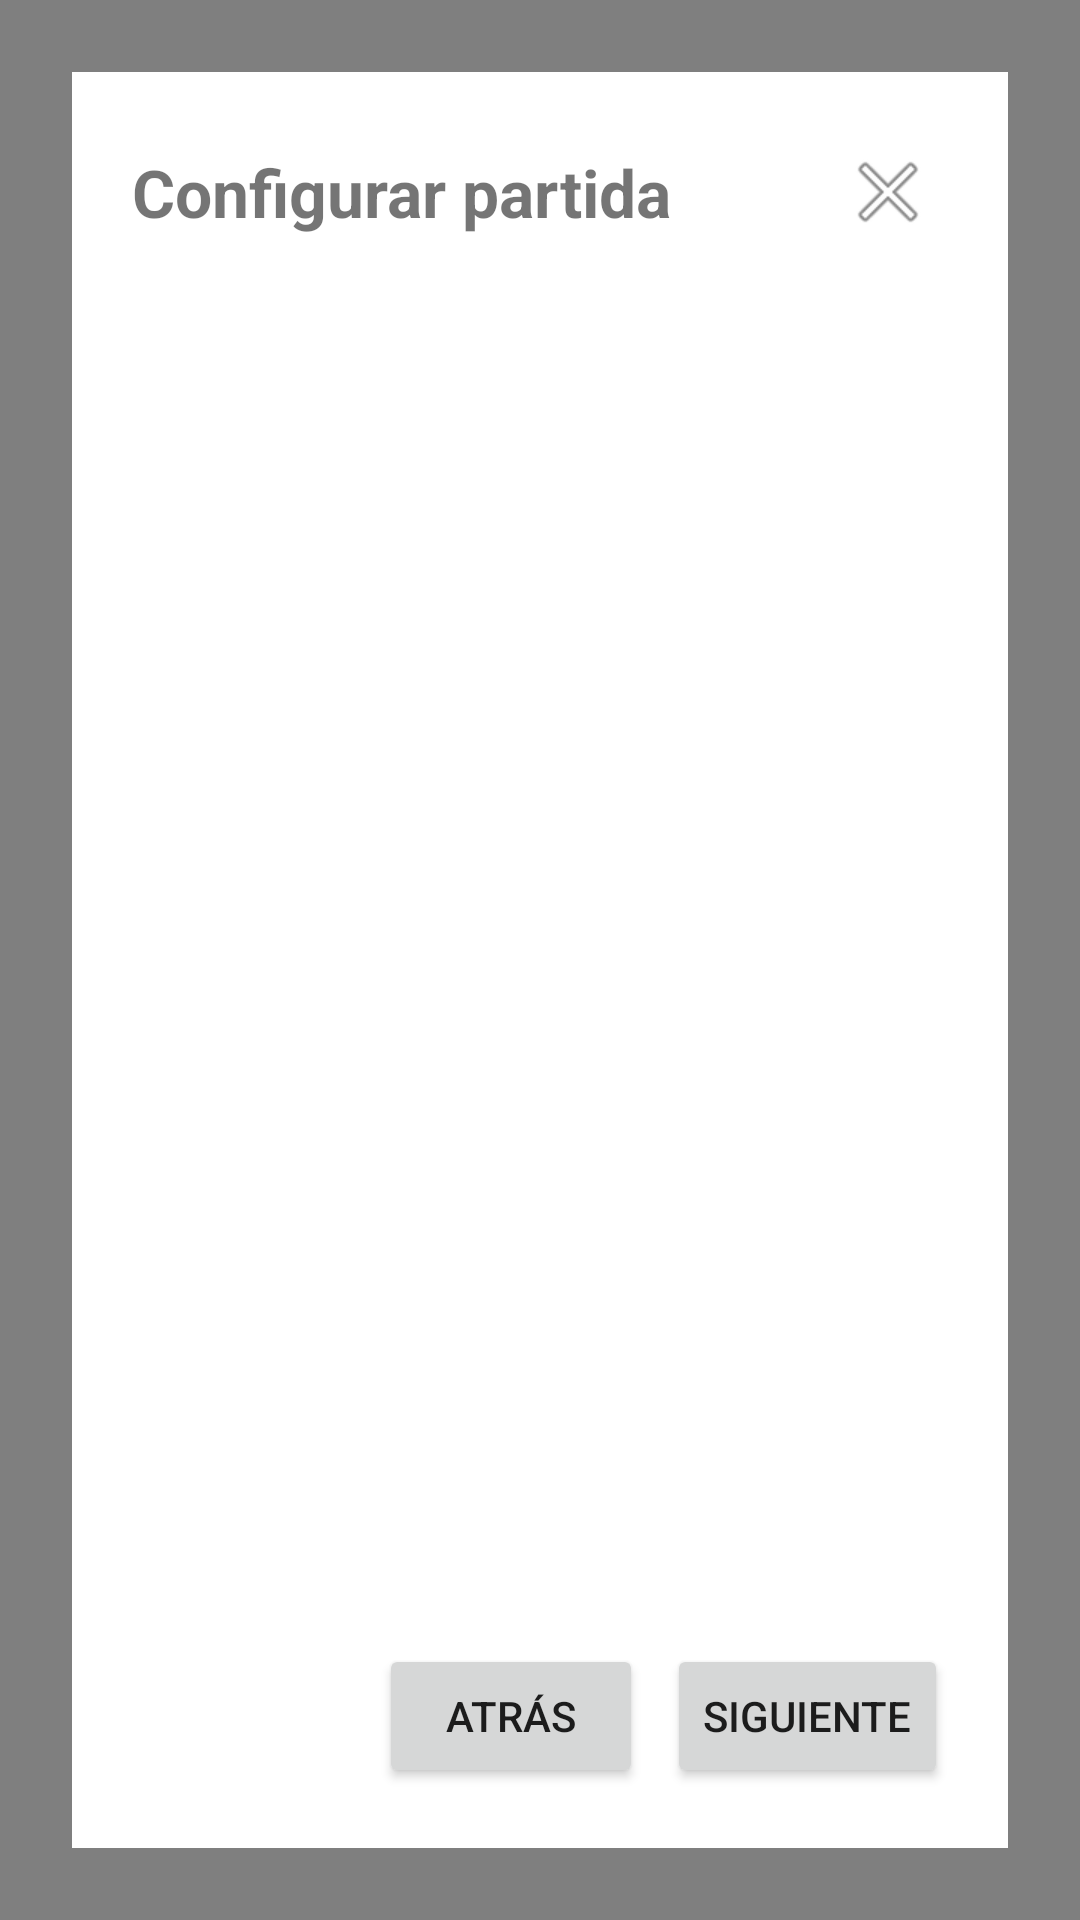

Where to tap for icons on this 1080*1920 app screen, as point (x, y):
close clear cancel: point (888, 192)
